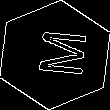M_W: (25, 30, 85, 80)
